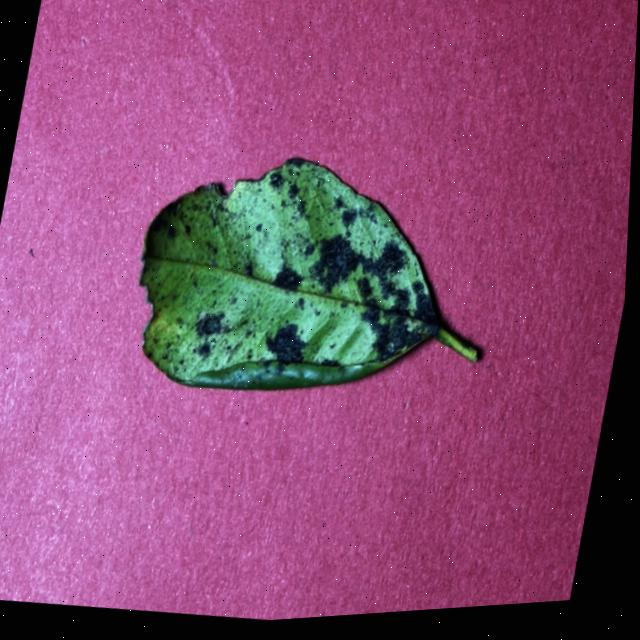sooty_mold: (141, 158, 479, 389)
